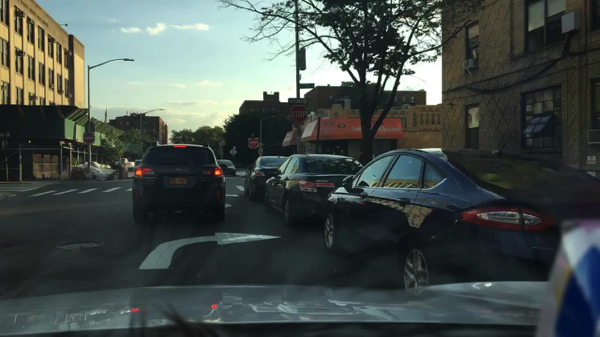car: (323, 130, 599, 290), (132, 143, 225, 225), (262, 156, 364, 226), (242, 157, 285, 202), (216, 159, 236, 176)
traffic sign: (289, 107, 310, 125), (82, 132, 97, 144), (287, 99, 310, 106), (82, 120, 96, 131), (246, 138, 259, 148), (299, 82, 314, 90), (230, 147, 237, 155)
